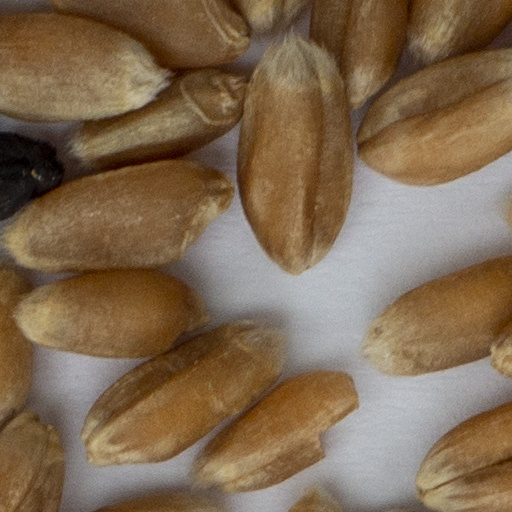Agrostemma-poly: (0, 132, 63, 219)
